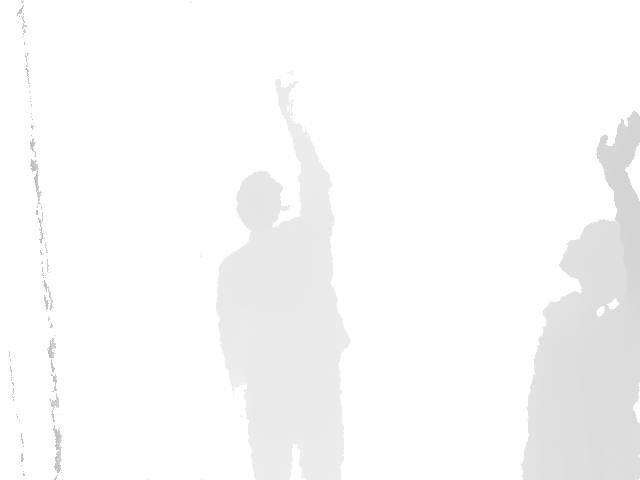hand: (595, 111, 640, 171), (273, 76, 298, 106)
head: (558, 218, 628, 297), (235, 170, 282, 237)
person: (213, 76, 352, 480), (519, 111, 640, 480)
